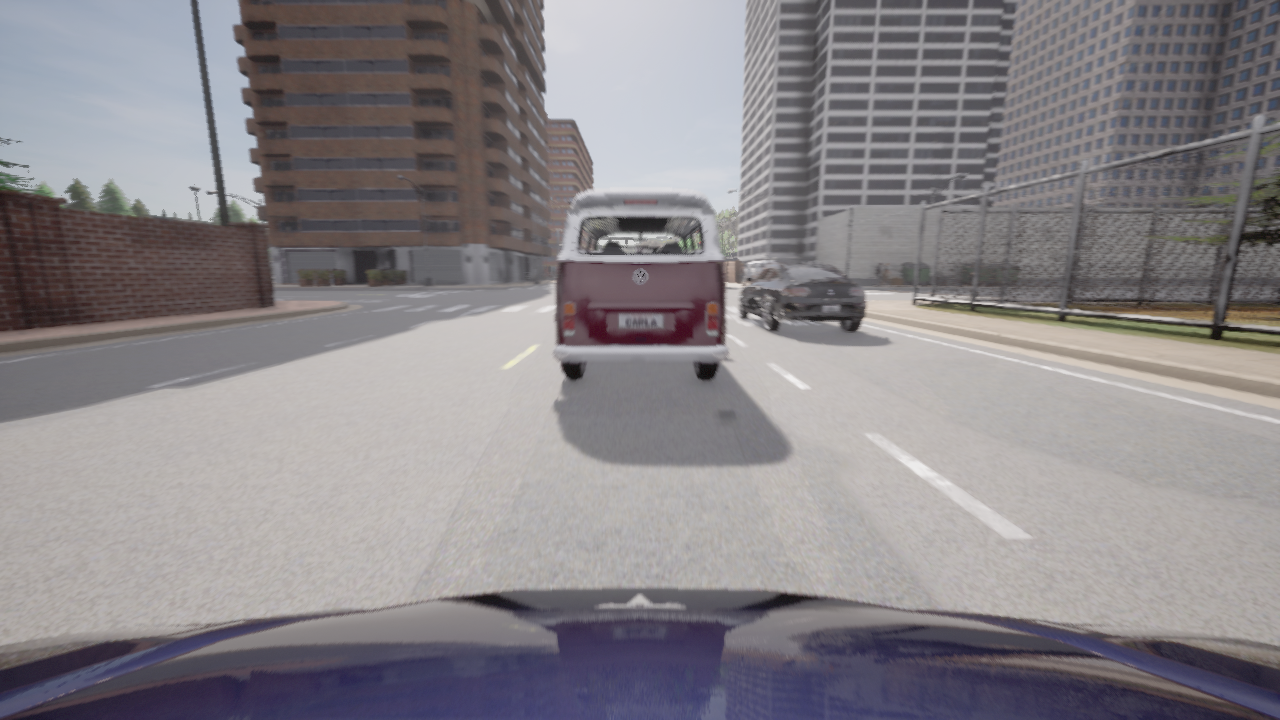cyclist: (0, 588, 1279, 719), (553, 188, 728, 381), (738, 262, 865, 332), (752, 257, 814, 279), (743, 259, 770, 280)
pedestrian: (881, 262, 890, 286), (874, 263, 883, 286), (740, 263, 745, 286)
